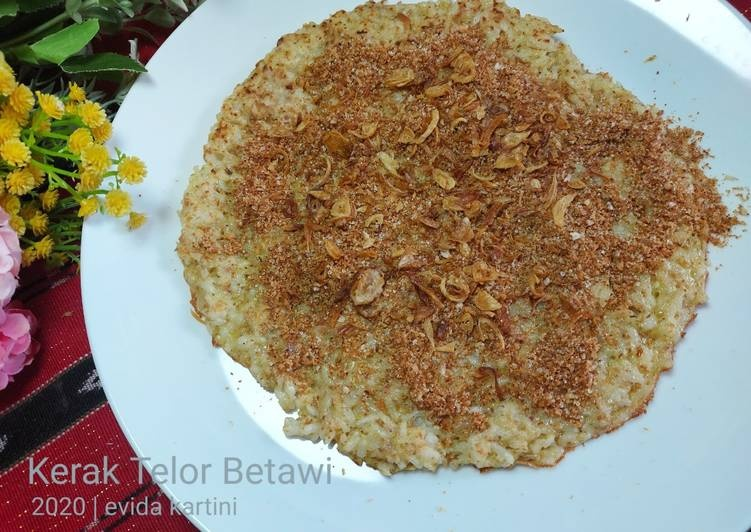kerak_telor: (177, 3, 726, 471)
